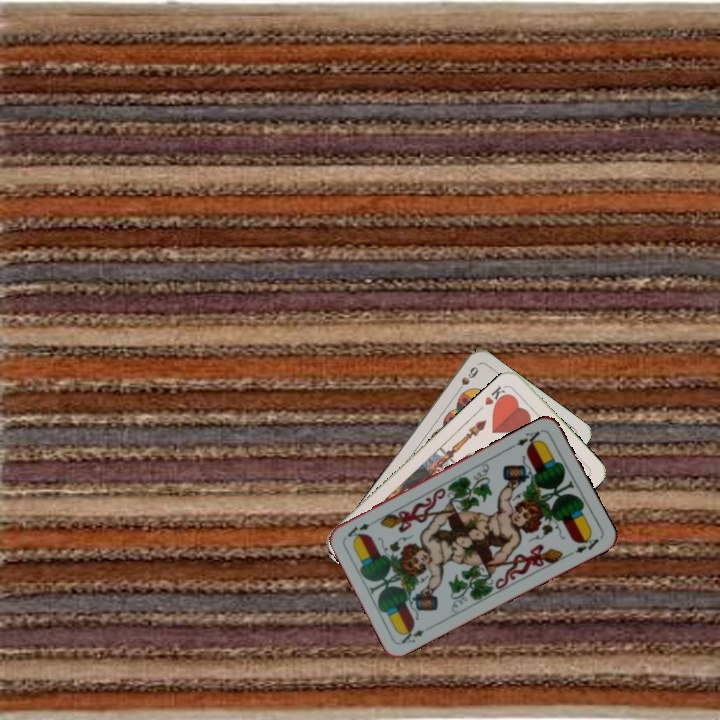EA: (512, 426, 546, 451), (397, 623, 427, 646)
HK: (481, 381, 511, 410)
S9: (451, 362, 481, 397)
